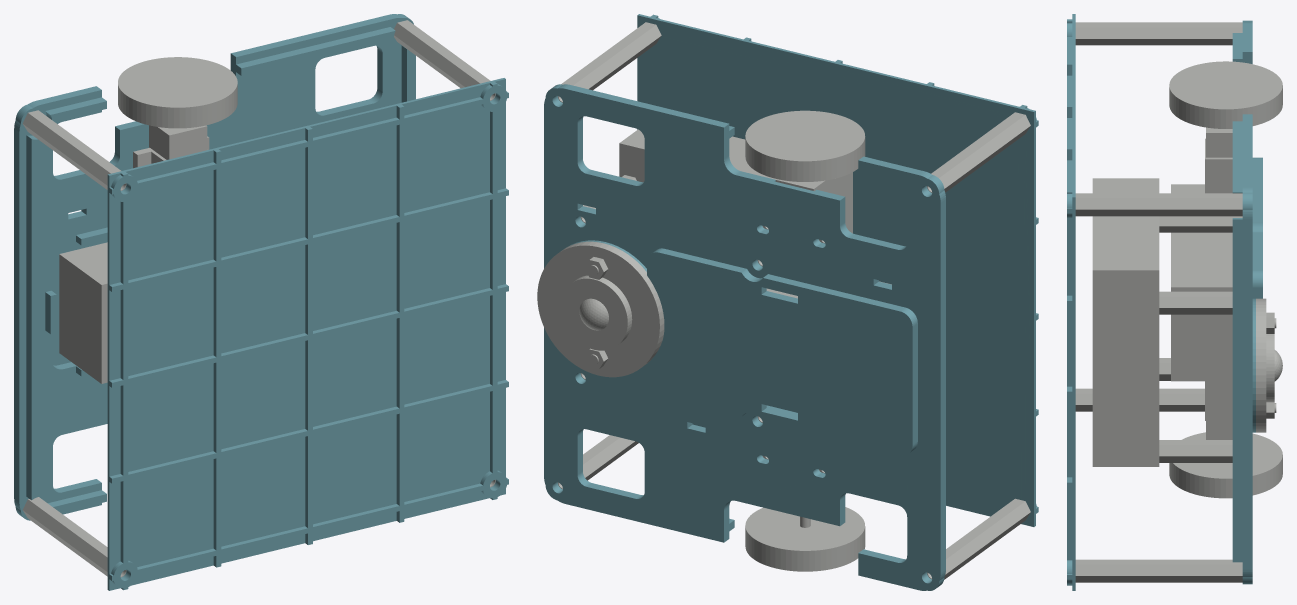
The model's file is assembly.glb.
3 views of the same model, side by side, from view 1: azimuth 30°, elevation 25°; view 2: azimuth 150°, elevation 25°; view 3: azimuth 270°, elevation 25° (orthographic). The views are drawn at different scales.
Parts seen in each view (by area): view 1: top_board, chassis, wheel_1, battery, top_nylon_-60.5_60.5, top_nylon_-60.5_-60.5, top_nylon_60.5_60.5, motor_1; view 2: chassis, top_board, caster_flange_envelope, wheel_1, wheel_-1, caster_lower_cap_envelope, top_nylon_-60.5_60.5, top_nylon_-60.5_-60.5, controller_envelope, top_nylon_60.5_60.5, top_nylon_60.5_-60.5, support_ball; view 3: controller_envelope, chassis, battery, wheel_1, top_board, top_nylon_60.5_60.5, top_nylon_60.5_-60.5, top_nylon_-60.5_60.5, wheel_-1, board_nylon_53.0_24.5, board_nylon_53.0_-24.5, top_nylon_-60.5_-60.5 (+7 smaller).
Boxes of the visible parts, <box> form: top_board: <box>107,78,508,590</box>; chassis: <box>14,14,415,520</box>; wheel_1: <box>118,57,237,128</box>; battery: <box>59,242,107,383</box>; top_nylon_-60.5_60.5: <box>22,110,126,190</box>; top_nylon_-60.5_-60.5: <box>23,497,126,577</box>; top_nylon_60.5_60.5: <box>394,20,495,100</box>; motor_1: <box>149,125,207,159</box>; chassis: <box>544,84,945,590</box>; top_board: <box>637,14,1038,526</box>; caster_flange_envelope: <box>537,241,664,377</box>; wheel_1: <box>745,110,865,181</box>; wheel_-1: <box>745,507,865,571</box>; caster_lower_cap_envelope: <box>560,275,632,350</box>; top_nylon_-60.5_60.5: <box>927,112,1030,192</box>; top_nylon_-60.5_-60.5: <box>927,498,1030,579</box>; controller_envelope: <box>619,129,852,233</box>; top_nylon_60.5_60.5: <box>558,22,661,102</box>; top_nylon_60.5_-60.5: <box>558,435,638,489</box>; support_ball: <box>579,298,608,330</box>; controller_envelope: <box>1092,178,1159,466</box>; chassis: <box>1232,20,1262,584</box>; battery: <box>1171,184,1232,381</box>; wheel_1: <box>1169,61,1282,128</box>; top_board: <box>1067,14,1075,590</box>; top_nylon_60.5_60.5: <box>1075,193,1242,216</box>; top_nylon_60.5_-60.5: <box>1075,559,1242,582</box>; top_nylon_-60.5_60.5: <box>1075,22,1242,45</box>; wheel_-1: <box>1169,432,1282,498</box>; board_nylon_53.0_24.5: <box>1159,291,1232,314</box>; board_nylon_53.0_-24.5: <box>1159,440,1232,462</box>; top_nylon_-60.5_-60.5: <box>1075,388,1204,411</box>.
Bounding box in the file's own units: 130 × 130 × 64.6.
